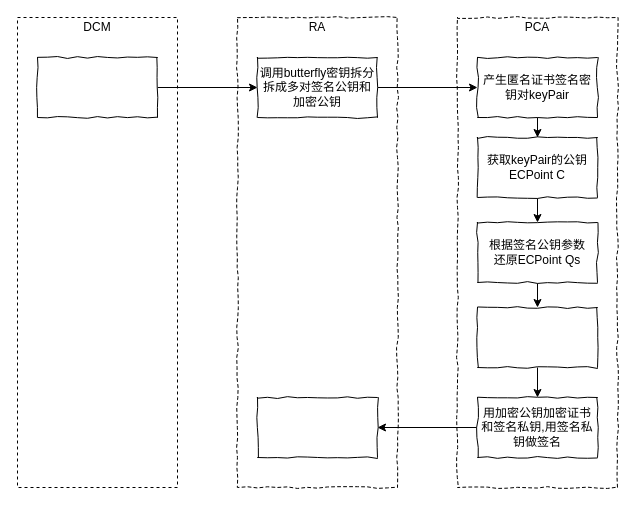
Some shapes in this 635 by 505 pixel diagram are drawn without their labels. The box of each missing label's shape, as (x1, y1, x2, y2) in pixels:
C+Qs生成ECPoint Qus，Qus即为真正的签名公钥: (476, 306, 598, 368)
产生签名公钥种子 加密公钥种子 签名公钥扩展参数 加密公钥扩展参数: (36, 56, 158, 118)
验证签名，响应记录拆成多条，同一设备的证书放到一起打包: (256, 396, 378, 458)
